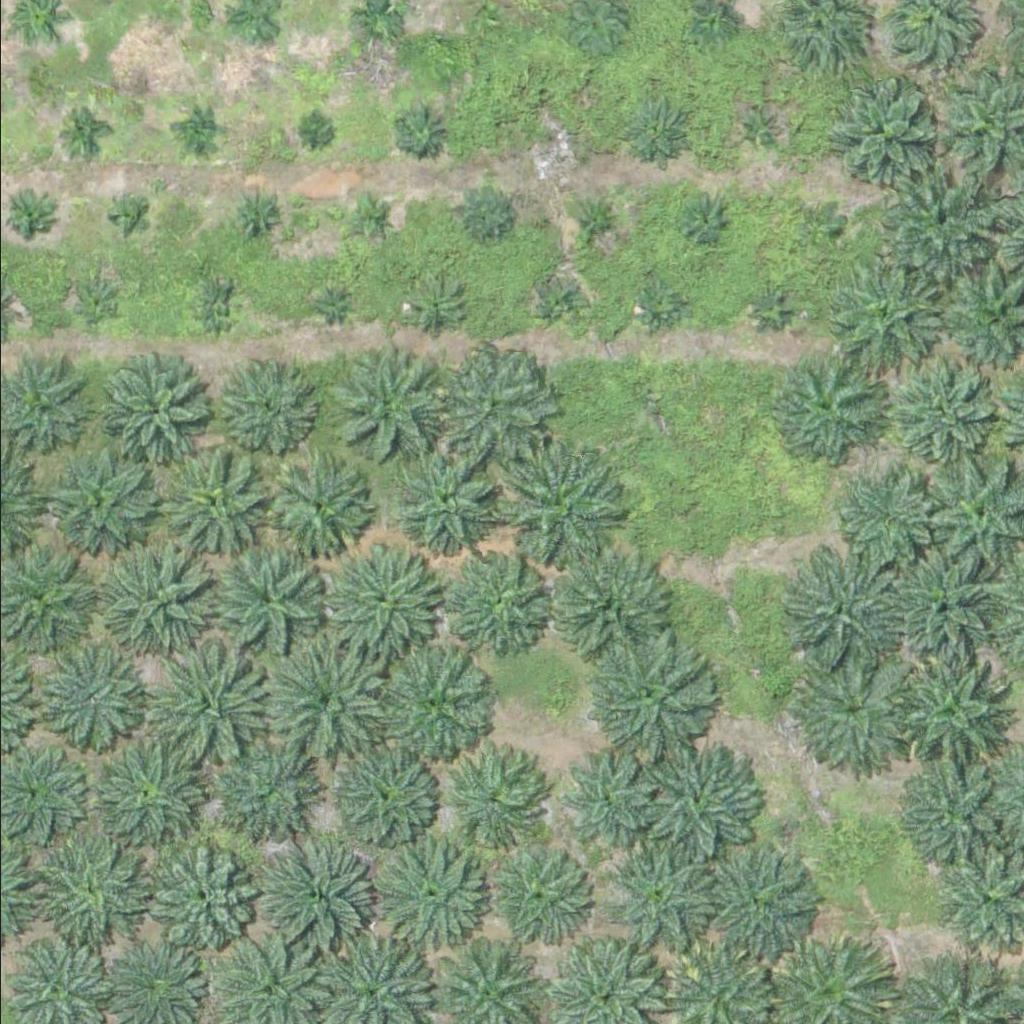Kelapa_Sawit: (864, 159, 990, 284), (776, 547, 902, 672), (891, 646, 1017, 771), (787, 650, 913, 775), (633, 737, 759, 862), (580, 631, 706, 756), (495, 448, 621, 573), (262, 638, 388, 763), (372, 640, 498, 765), (21, 826, 147, 951), (94, 535, 220, 660), (146, 642, 272, 767), (887, 348, 1001, 461), (825, 461, 939, 574), (553, 550, 667, 663), (821, 80, 934, 193), (769, 352, 882, 465), (896, 753, 1009, 866), (378, 834, 491, 947), (327, 540, 440, 653), (210, 539, 323, 652), (255, 835, 369, 947), (37, 446, 151, 558), (154, 449, 268, 561), (821, 259, 934, 371), (881, 545, 994, 657), (435, 349, 548, 461), (329, 358, 442, 470), (143, 843, 256, 955), (89, 738, 202, 850), (707, 858, 808, 958), (609, 846, 710, 946), (488, 842, 589, 942), (556, 748, 657, 848), (397, 451, 498, 551), (269, 457, 370, 557), (33, 653, 134, 753), (442, 746, 542, 846), (333, 744, 433, 844), (210, 729, 310, 829), (449, 550, 549, 650), (104, 362, 204, 462), (220, 367, 308, 454), (453, 182, 516, 245), (622, 100, 685, 162), (56, 104, 107, 154), (2, 188, 53, 238), (408, 281, 459, 331), (395, 104, 446, 154), (573, 197, 624, 247), (191, 286, 241, 336), (174, 106, 224, 156), (683, 195, 733, 245), (536, 281, 586, 331), (746, 284, 796, 334), (635, 280, 685, 330), (731, 100, 781, 150), (800, 203, 850, 253), (346, 192, 396, 242), (72, 275, 122, 325), (232, 191, 282, 241), (465, 4, 503, 42), (109, 195, 147, 233), (690, 2, 727, 40), (545, 127, 570, 152), (316, 293, 341, 318), (302, 116, 327, 141)
